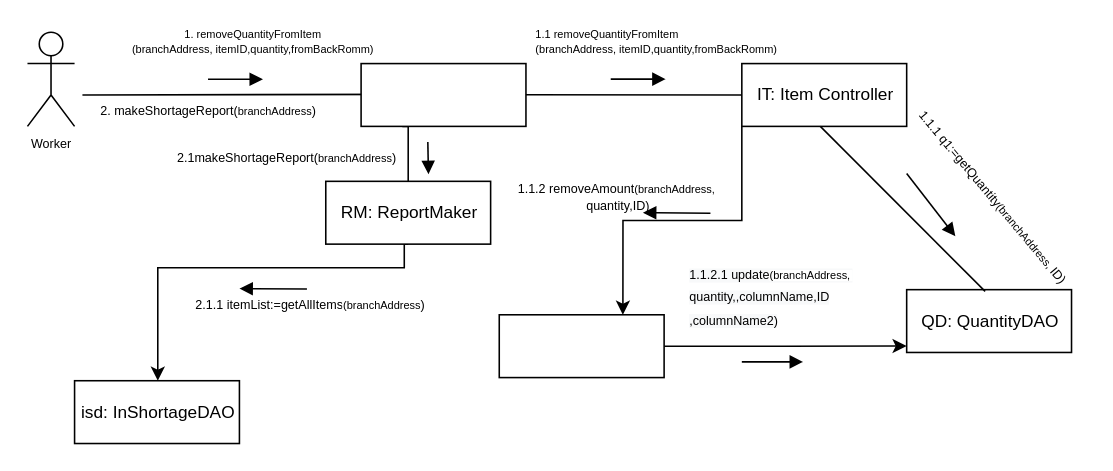
Image size: 1113x471. Some labels were removed from this diagram. Each missing label, with the box of its shape:
IS: InventoryService: (360, 62, 526, 126)
qu: Quantity: (498, 313, 664, 378)
